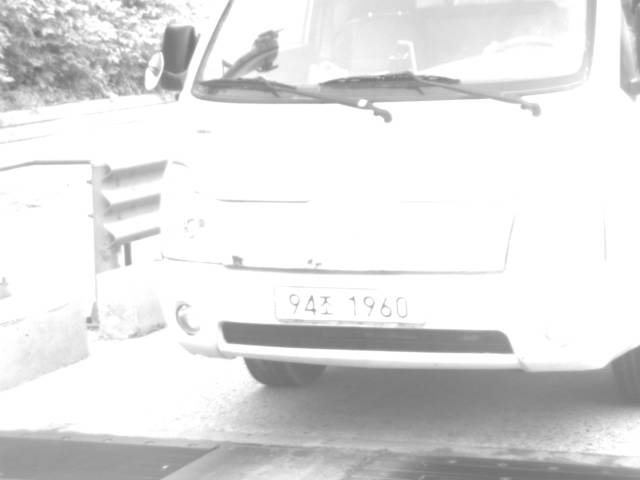car: (156, 1, 639, 403)
plate: (272, 282, 430, 325)
